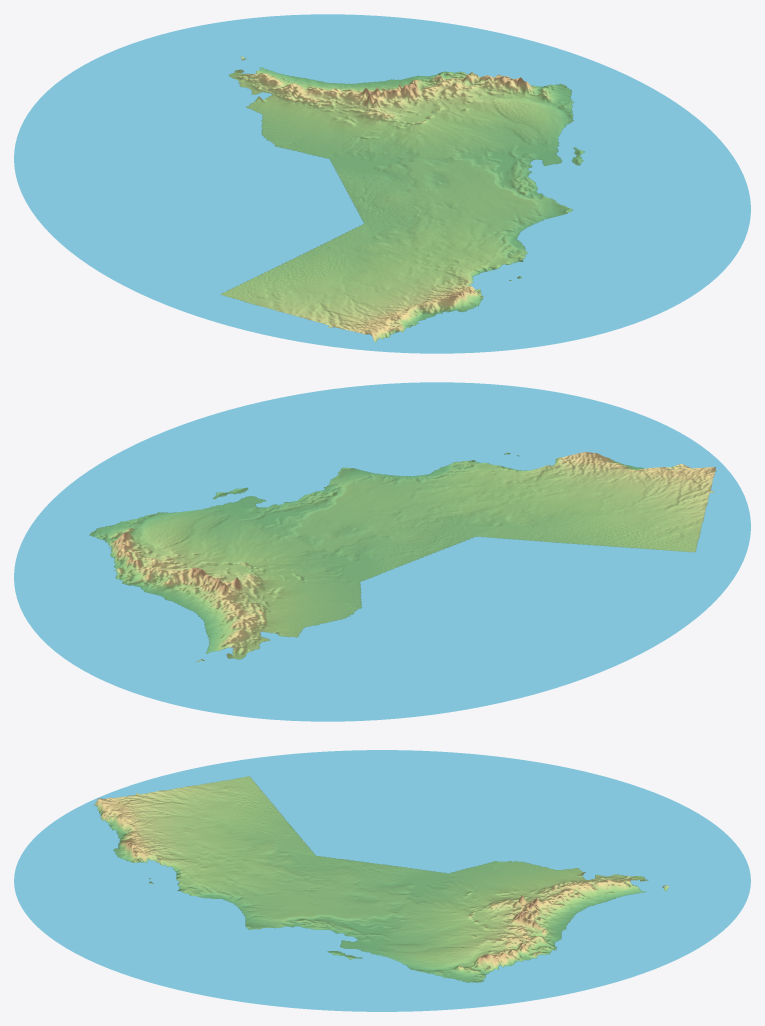
File: OMN-terrain.glb
3 views of the same model, one above another, from view 1: azimuth 30°, elevation 25°; view 2: azimuth 150°, elevation 25°; view 3: azimuth 270°, elevation 25° (orthographic). The views are drawn at different scales.
Parts seen in each view (by area): view 1: Relevo com hidrografia; view 2: Relevo com hidrografia; view 3: Relevo com hidrografia.
Boxes of the visible parts, left/top/right/bottom form: Relevo com hidrografia: left=14, top=14, right=750, bottom=353; Relevo com hidrografia: left=14, top=382, right=750, bottom=721; Relevo com hidrografia: left=14, top=750, right=750, bottom=1011.
Bounding box in the file's own units: 1.73 × 0.0454 × 2.06.
2 materials, 1 textured.
